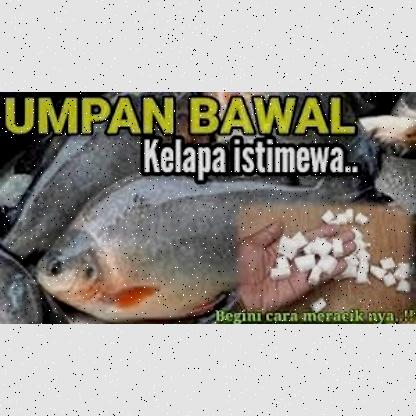ikan-pacu: (38, 174, 326, 318)
